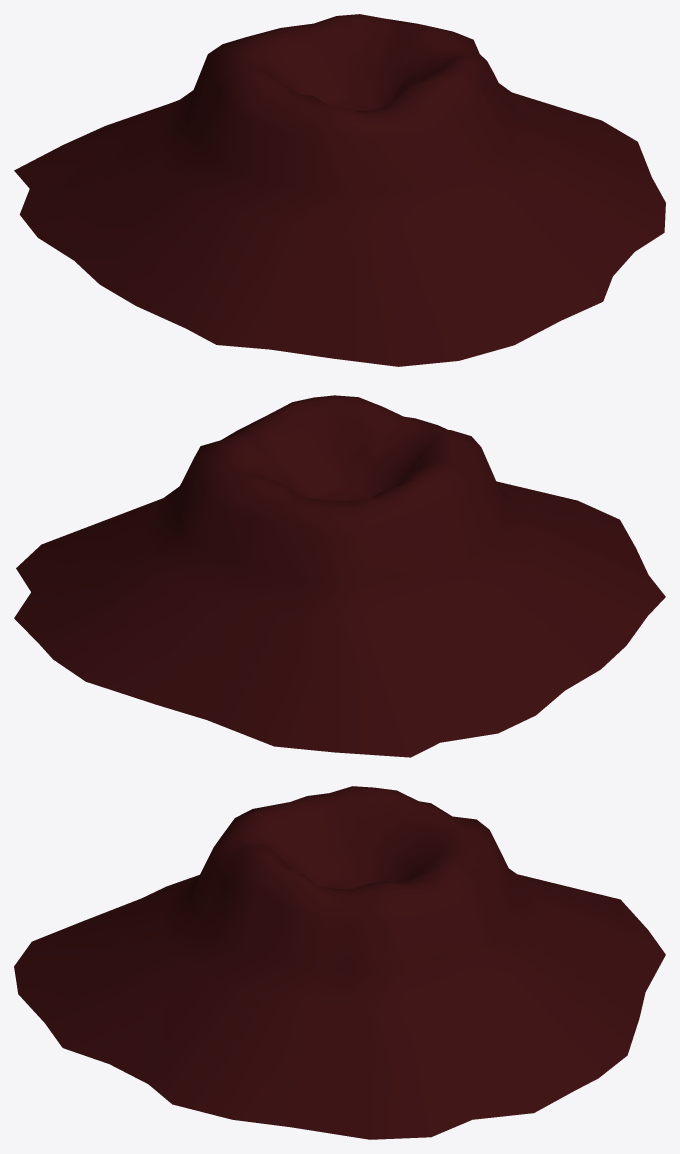
The model's file is Nid spawner rouge.fbx.
3 renders of one model, top to bottom at view 1: azimuth 30°, elevation 25°; view 2: azimuth 150°, elevation 25°; view 3: azimuth 270°, elevation 25°, orthographic.
Parts seen in each view (by area): view 1: Circle; view 2: Circle; view 3: Circle.
Boxes of the visible parts, x1,y1,x2,y2 form: Circle: [14, 14, 665, 366]; Circle: [14, 395, 665, 757]; Circle: [14, 786, 665, 1139].
Bounding box in the file's own units: 11.2 × 3.25 × 11.61.
